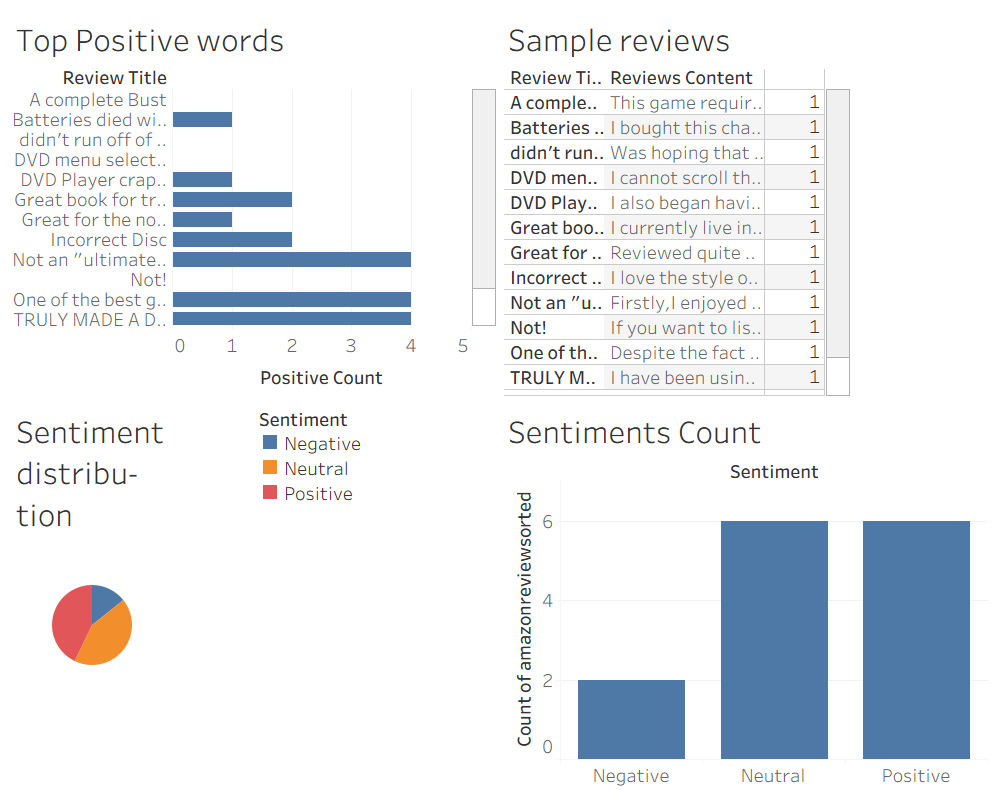

This screenshot's page, from the dashboard's own definition file:
{"tool":"tableau","page":{"name":"Dashboard 2","canvas":[1000,800],"ordinal":1},"visuals":[{"type":"worksheet","title":"Sheet 2","mark":"Bar","rows":["review title"],"cols":["positive_count"],"box":[8,8,492,392]},{"type":"worksheet","title":"Sheet 3","mark":"Automatic","rows":["review title","reviews content"],"box":[500,8,492,392]},{"type":"worksheet","title":"Sheet 4","mark":"Pie","box":[8,400,246,392]},{"type":"legend","title":"Sheet 4","param":"[federated.1a9y0to042sr8c13a3nk80serg7w].[none:sentiment:nk]","box":[254,400,246,392]},{"type":"worksheet","title":"Sheet 1","mark":"Automatic","rows":["amazonreviewsorted_501EDD50345E48C3B668C9CAC8D08CA6"],"cols":["sentiment"],"box":[500,400,492,392]}]}

Visuals, with their boxes in screenshot pixels (x1, y1, x2, y2), scaled from the page's 1000x800 canvas onto the 1000x800 screenshot:
"Sheet 2" worksheet (Bar marks): x1=8 y1=8 x2=500 y2=400
"Sheet 3" worksheet: x1=500 y1=8 x2=992 y2=400
"Sheet 4" worksheet (Pie marks): x1=8 y1=400 x2=254 y2=792
"Sheet 4" legend: x1=254 y1=400 x2=500 y2=792
"Sheet 1" worksheet: x1=500 y1=400 x2=992 y2=792
